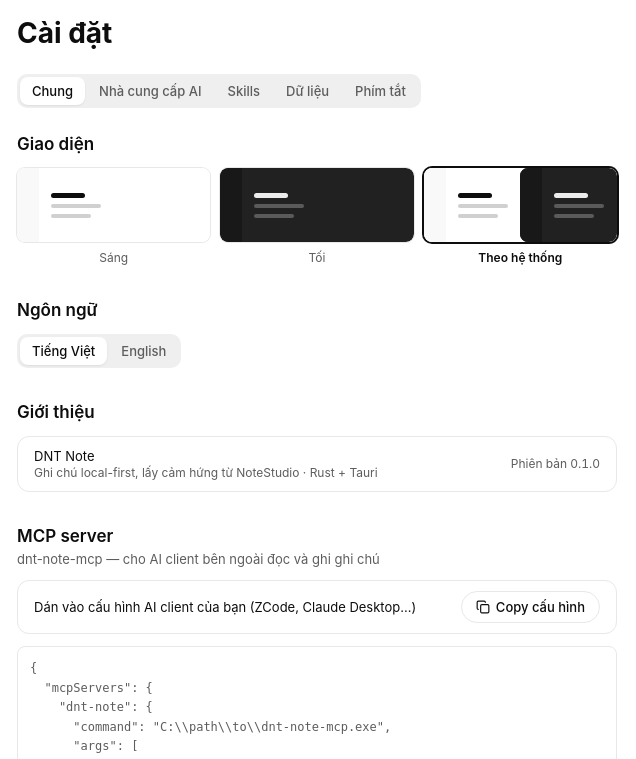
SettingsPage tabs › switching language re-renders the UI in the chosen language
Click the radio button labelled "English". click: (144, 351)
box: [109,337,178,365]
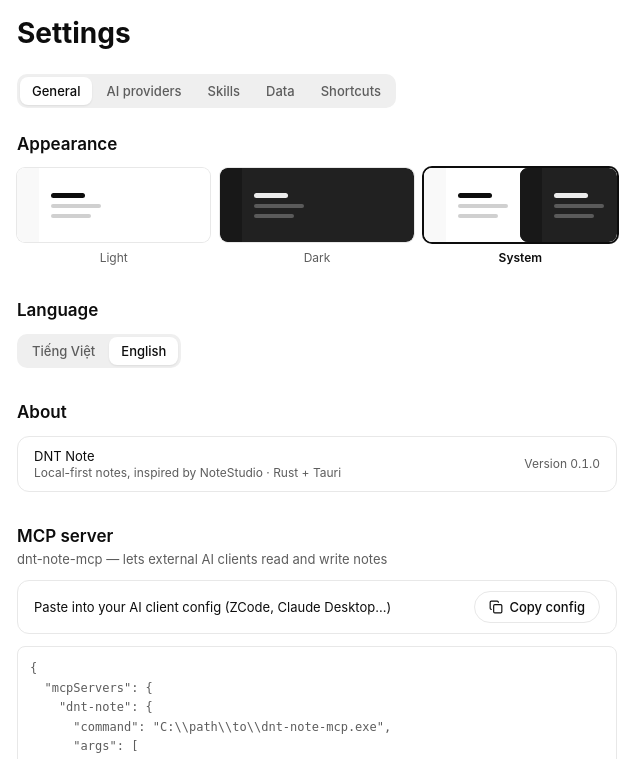
Expected: the heading "Settings" is shown, [17,16,131,50]
Expected: the tab "AI providers" is shown, [94,77,194,105]
Click the radio button labelled "Tiếng Việt". click: (64, 351)
box: [20,337,107,365]
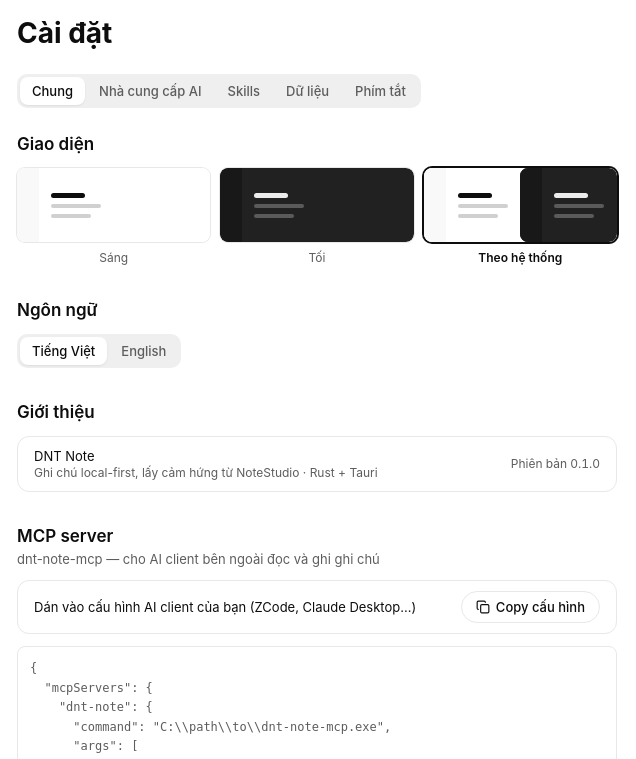
Expected: the heading "Cài đặt" is shown, [17,16,112,50]
